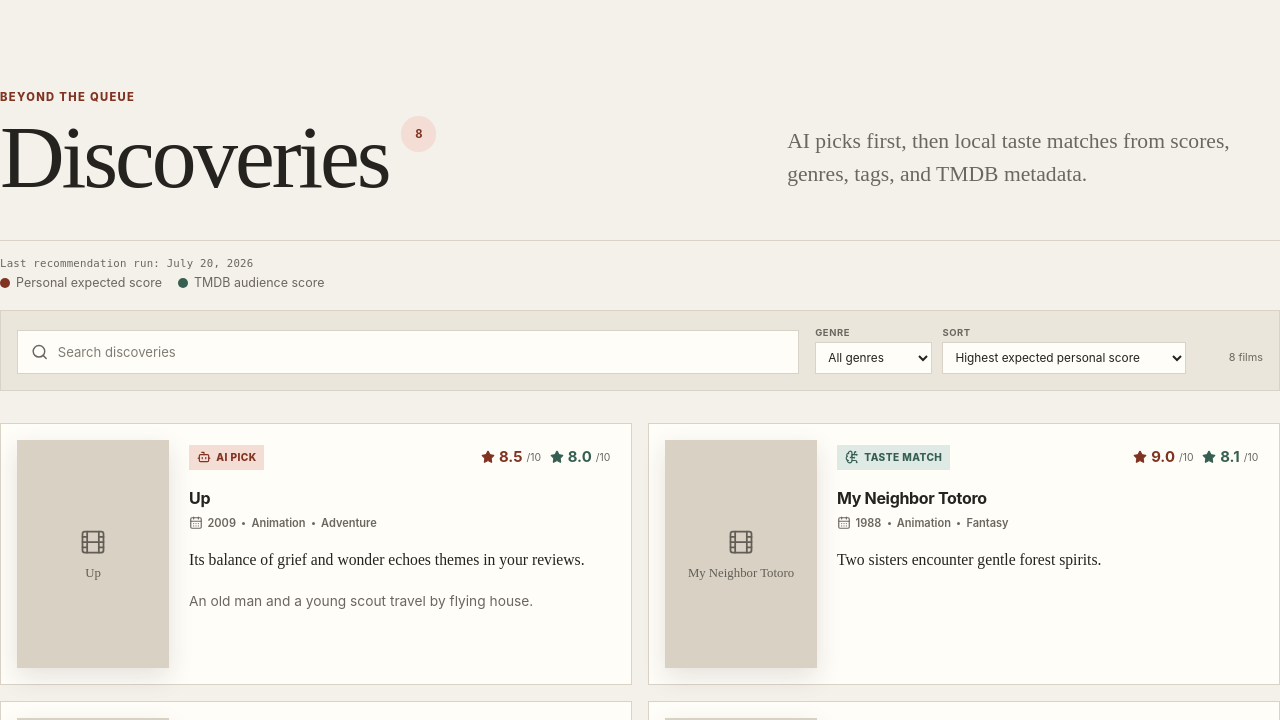
Test: journal views › filters discoveries by genre
Select "Drama" in the dropdown labelled "Genre". click: (874, 358)
box: [815, 342, 932, 374]
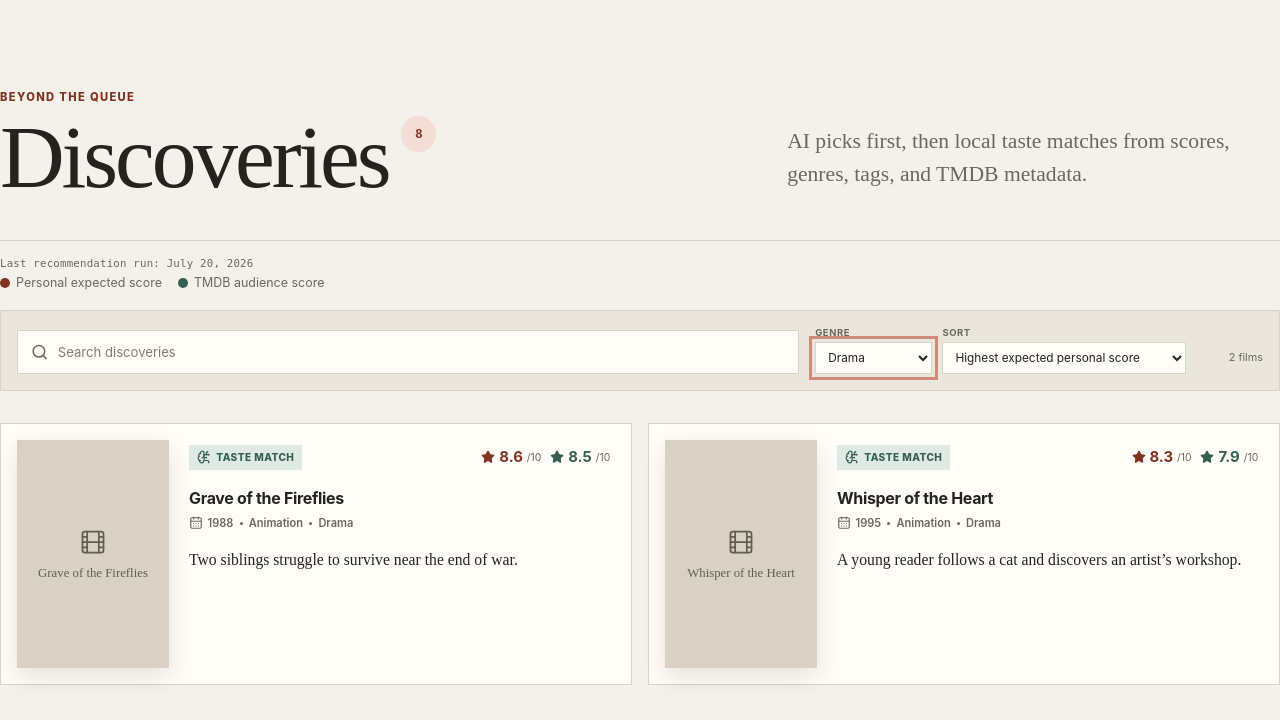
Check: the heading "Grave of the Fireflies" is shown, box [189, 488, 344, 508]
Check: the text "Up" is gone
